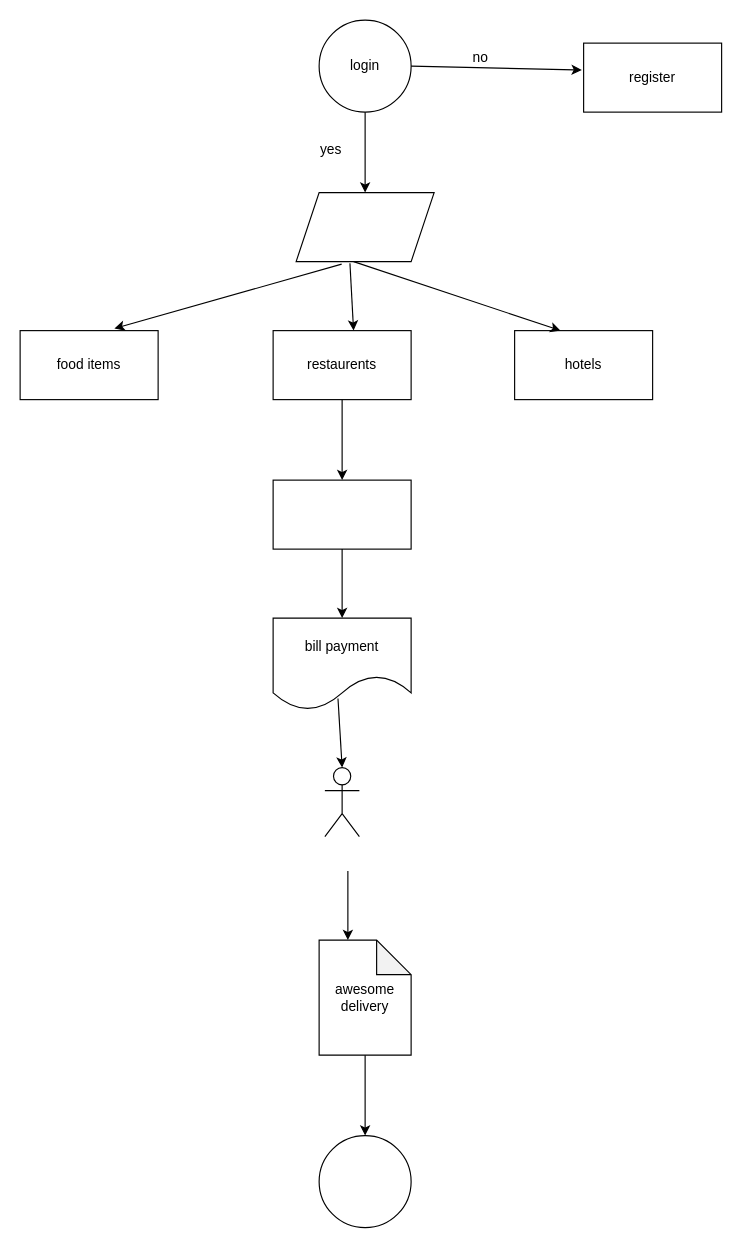
Image size: 742x1248. Some labels were removed from this diagram. Here are the shapes that lost their labels. From the top down, the centre of each, then its label:
At pixel 364 226: "search for order".
At pixel 341 514: "placing an order".
At pixel 341 801: "Actor".
At pixel 364 1181: "close".
